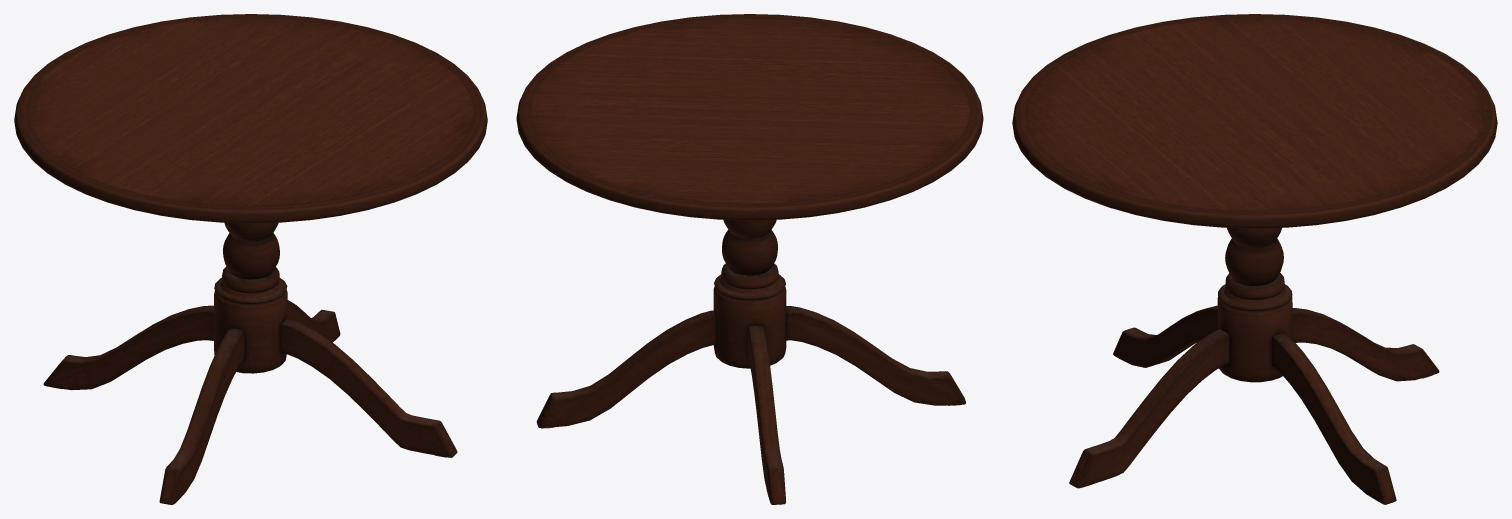
Rendered from round_wooden_table_01.glb.
The picture shows the model from 3 angles, left to right: view 1: azimuth 30°, elevation 25°; view 2: azimuth 150°, elevation 25°; view 3: azimuth 270°, elevation 25°; orthographic projection. The views are drawn at different scales.
Parts seen in each view (by area): view 1: round_wooden_table_01; view 2: round_wooden_table_01; view 3: round_wooden_table_01.
Boxes of the visible parts, x1,y1,x2,y2 form: round_wooden_table_01: (14, 14, 487, 504); round_wooden_table_01: (516, 14, 983, 504); round_wooden_table_01: (1012, 14, 1497, 504).
Bounding box in the file's own units: 1.4 × 1.01 × 1.4.
Materials: 1 (1 with a texture image).
